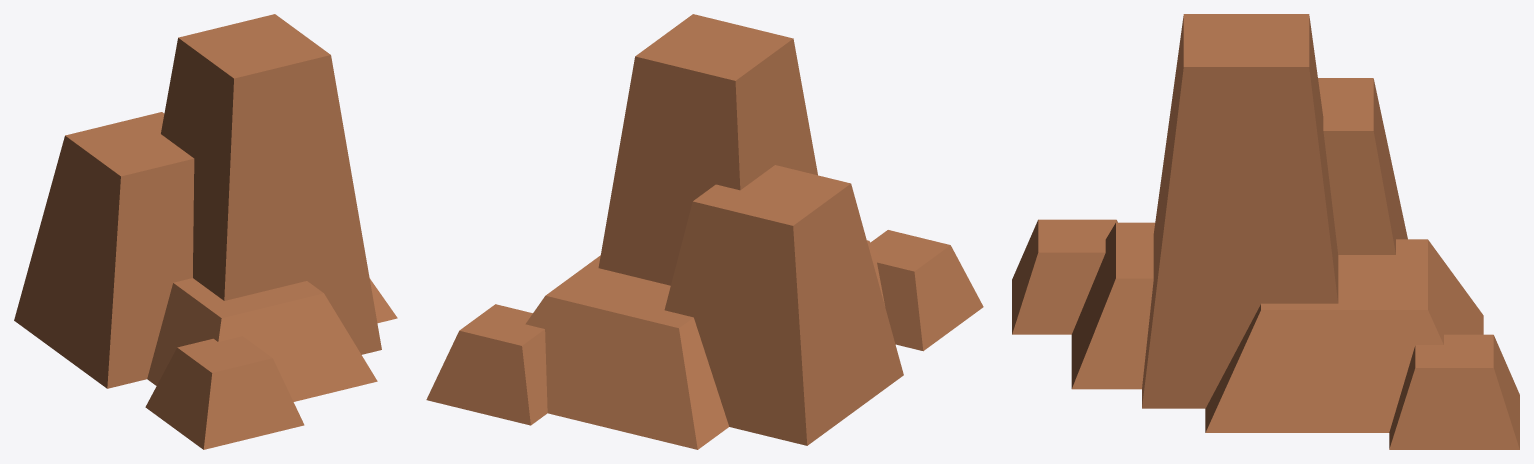
Rendered from rocksTall.fbx.
3 renders of one model, left to right at view 1: azimuth 30°, elevation 25°; view 2: azimuth 150°, elevation 25°; view 3: azimuth 270°, elevation 25°, orthographic. The views are drawn at different scales.
Parts seen in each view (by area): view 1: rocksTall; view 2: rocksTall; view 3: rocksTall.
Boxes of the visible parts, x1,y1,x2,y2 form: rocksTall: (14, 14, 397, 449); rocksTall: (426, 14, 983, 449); rocksTall: (1012, 14, 1519, 449).
Size of the model in its own units: 6.72 by 5.78 by 8.21.
